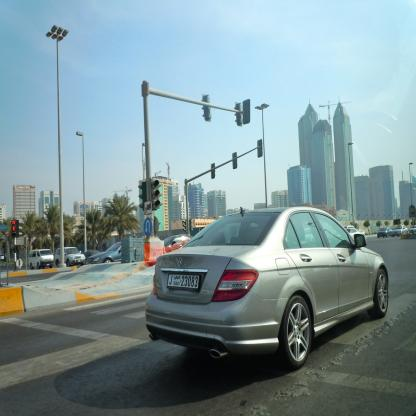Car: (146, 208, 391, 372), (28, 236, 189, 272), (345, 226, 368, 243), (390, 224, 409, 236), (392, 227, 409, 239), (378, 229, 394, 240), (411, 225, 416, 233)
